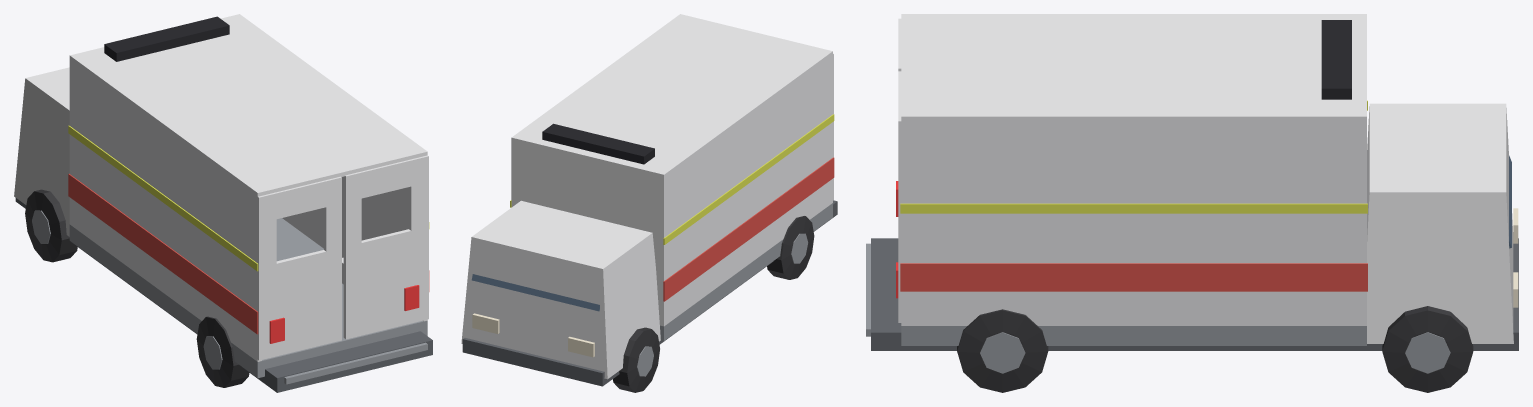
The model's file is AmbulanceShut.obj.
The picture shows the model from 3 angles, left to right: view 1: azimuth 30°, elevation 25°; view 2: azimuth 150°, elevation 25°; view 3: azimuth 270°, elevation 25°; orthographic projection. The views are drawn at different scales.
Visible parts, largest first — view 1: AmbulanceShut; view 2: AmbulanceShut; view 3: AmbulanceShut.
Part boxes in pixels (x1,y1,x2,y2): AmbulanceShut: (14, 14, 432, 392); AmbulanceShut: (461, 14, 837, 392); AmbulanceShut: (866, 14, 1518, 392).
Size of the model in its own units: 2.52 by 3.12 by 6.45.
1 material, 1 textured.
